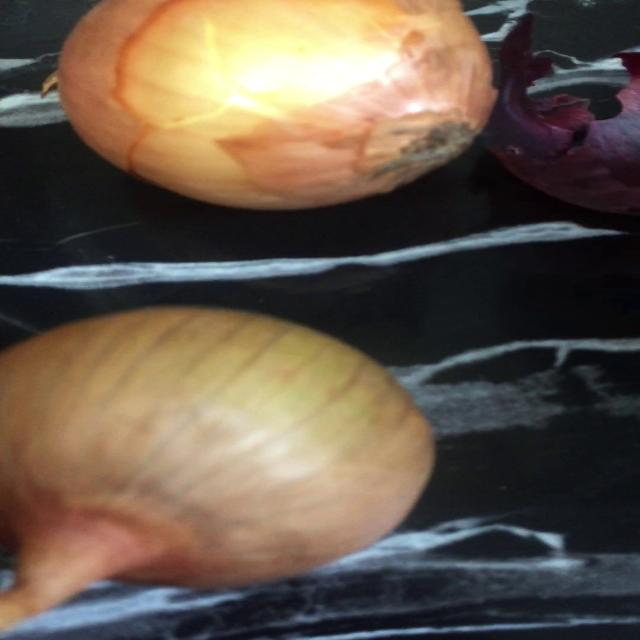Onion: (1, 307, 433, 630), (57, 0, 495, 209)
